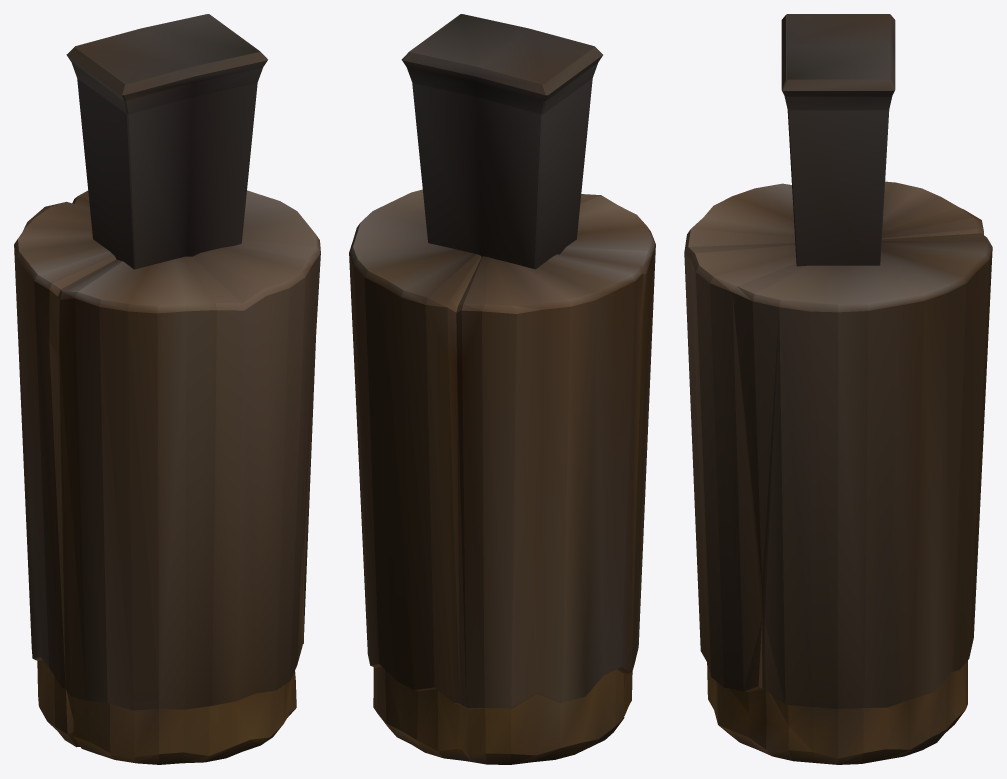
The model's file is anvil_5faf0f2b.glb.
The picture shows the model from 3 angles, left to right: view 1: azimuth 30°, elevation 25°; view 2: azimuth 150°, elevation 25°; view 3: azimuth 270°, elevation 25°; orthographic projection.
Visible parts, largest first — view 1: SM_Anvil_M_Anvil_0; view 2: SM_Anvil_M_Anvil_0; view 3: SM_Anvil_M_Anvil_0.
Boxes of the visible parts, left/top/right/bottom form: SM_Anvil_M_Anvil_0: left=14, top=14, right=320, bottom=764; SM_Anvil_M_Anvil_0: left=349, top=14, right=655, bottom=764; SM_Anvil_M_Anvil_0: left=684, top=14, right=992, bottom=764.
Bounding box in the file's own units: 0.5262 × 1.26 × 0.5258.
